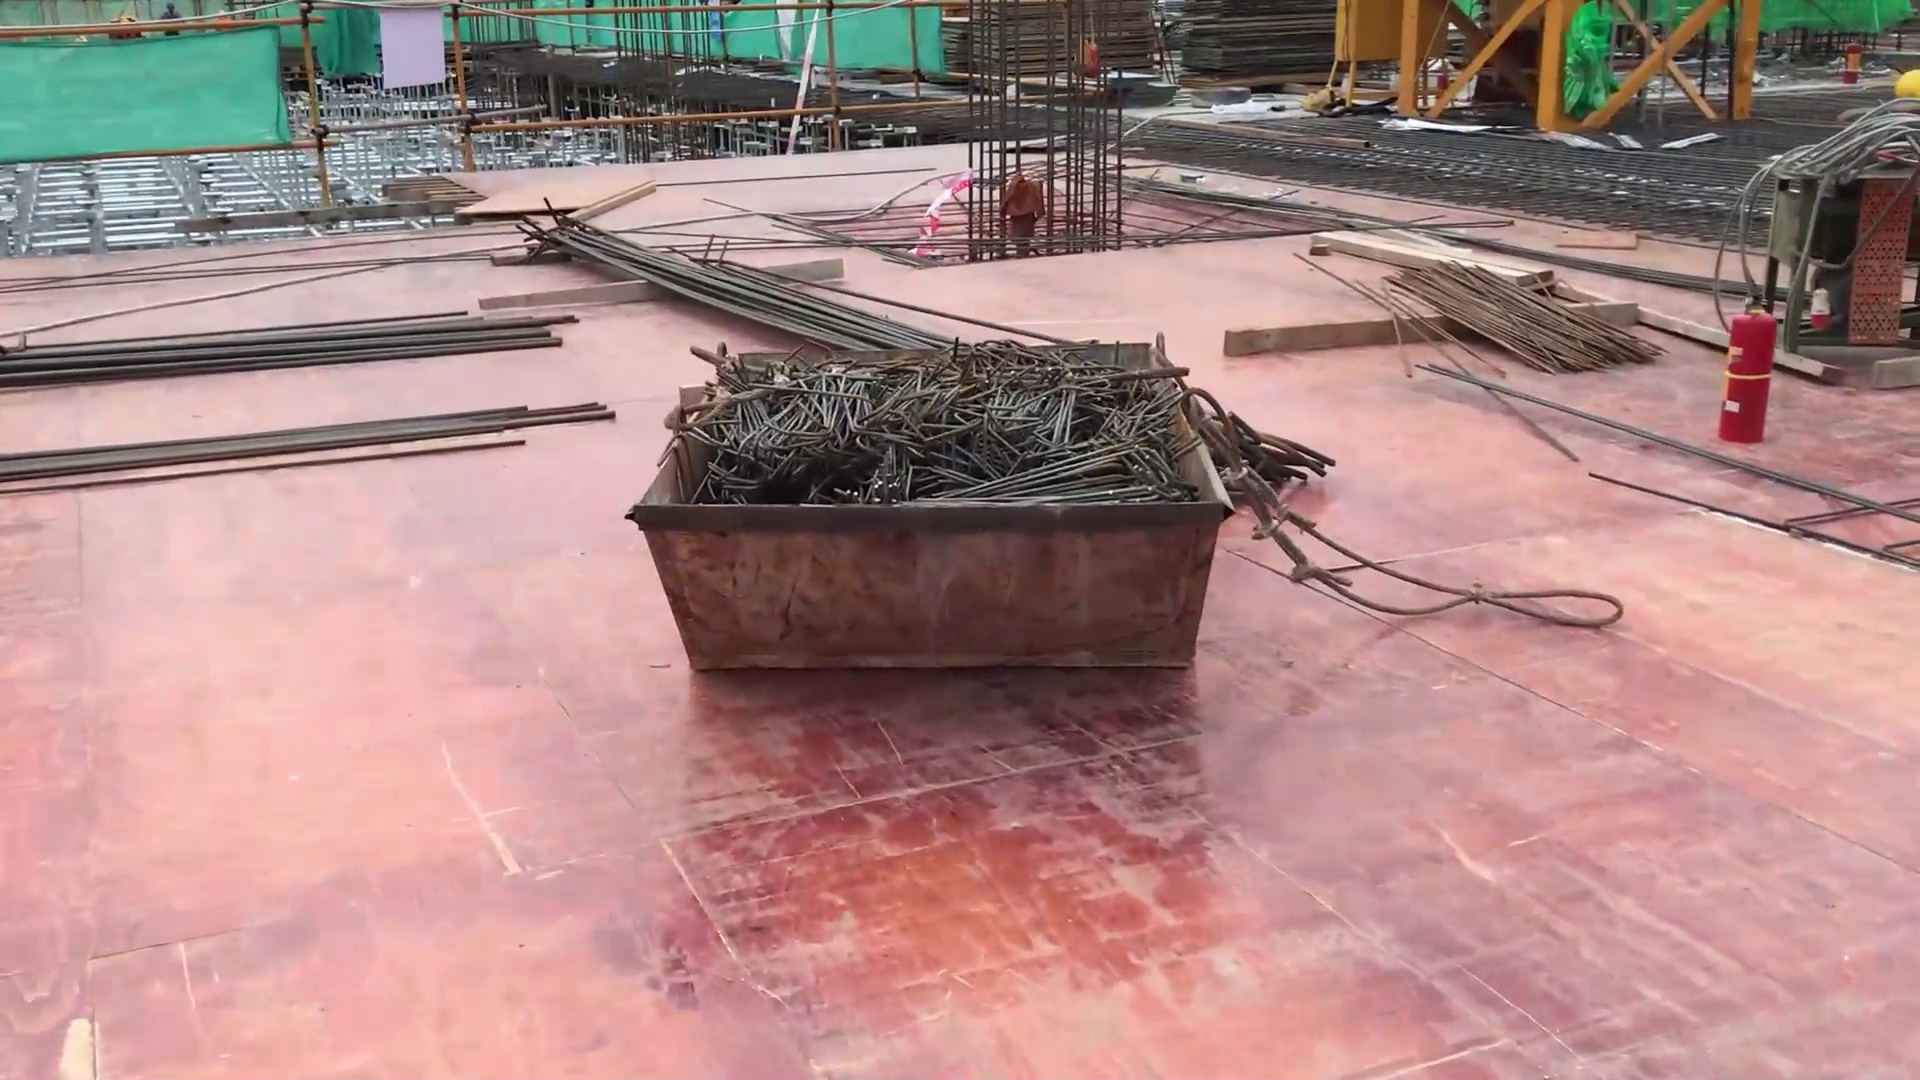hopper: (620, 336, 1240, 683)
rebar: (514, 202, 1340, 493), (4, 307, 622, 477)
